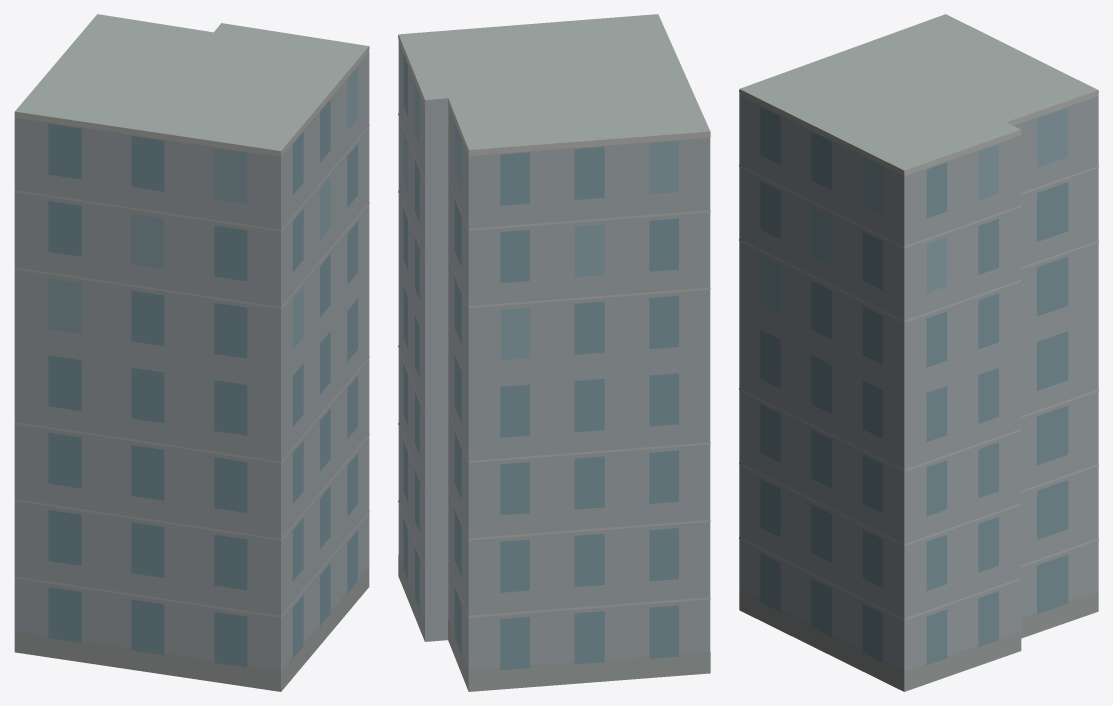
The model's file is survey-upis-32830036.glb.
3 views of the same model, side by side, from view 1: azimuth 30°, elevation 25°; view 2: azimuth 150°, elevation 25°; view 3: azimuth 270°, elevation 25° (orthographic). The views are drawn at different scales.
Parts seen in each view (by area): view 1: survey-upis-32830036.tmp; view 2: survey-upis-32830036.tmp; view 3: survey-upis-32830036.tmp.
Part boxes in pixels (left/top/right/bottom): survey-upis-32830036.tmp: left=14, top=14, right=369, bottom=691; survey-upis-32830036.tmp: left=398, top=14, right=710, bottom=691; survey-upis-32830036.tmp: left=739, top=14, right=1098, bottom=691.
Size of the model in its own units: 14.45 by 22.4 by 14.02.
